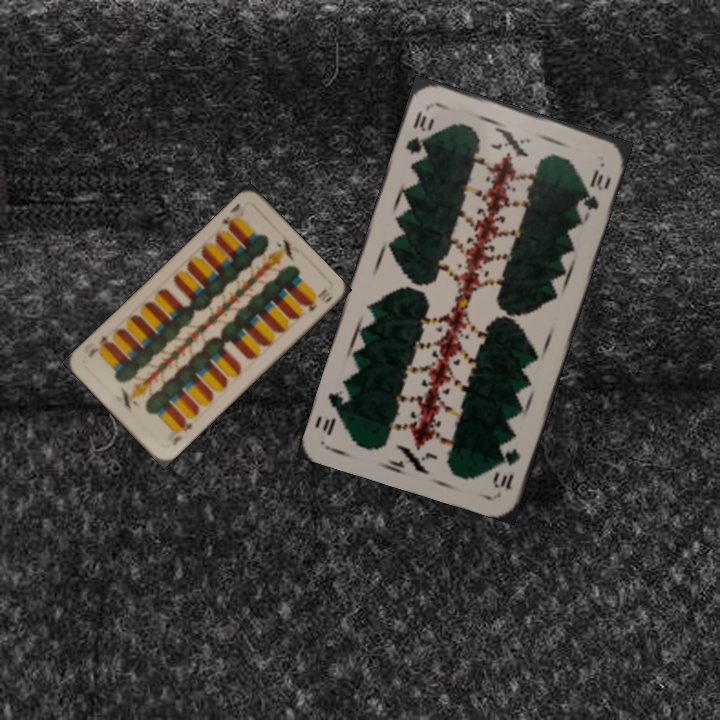E10: (217, 199, 243, 233), (168, 416, 195, 448)
G10: (401, 106, 437, 164), (489, 444, 523, 492)
